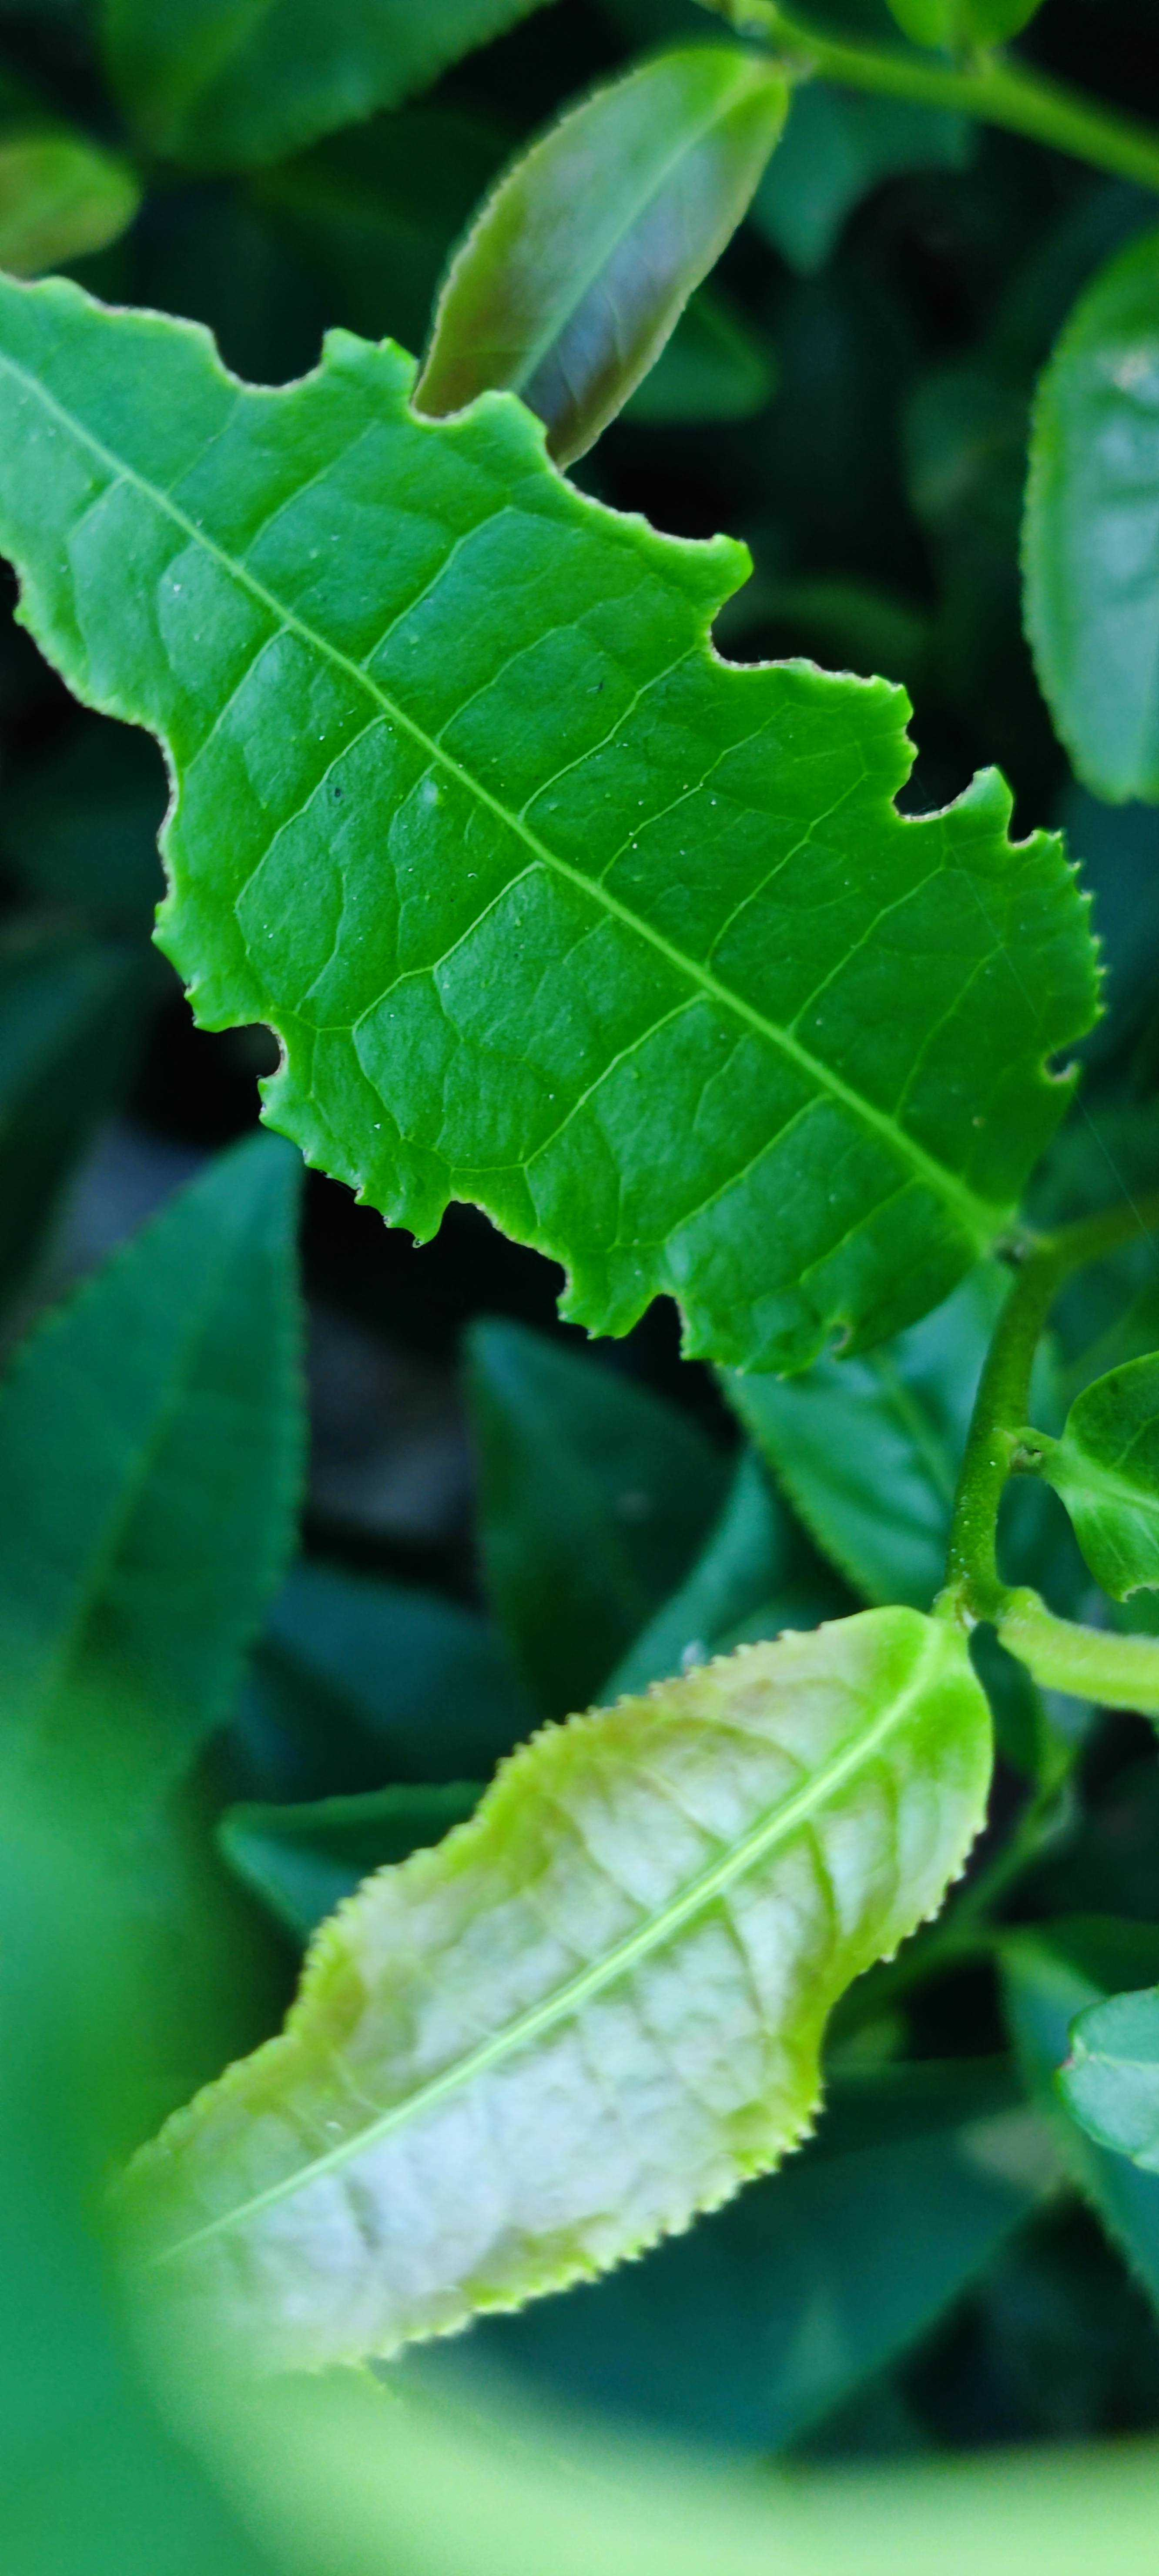chihuo_high: (3, 260, 1115, 1385)
tanju_low: (112, 1595, 995, 2376), (414, 51, 795, 470)
